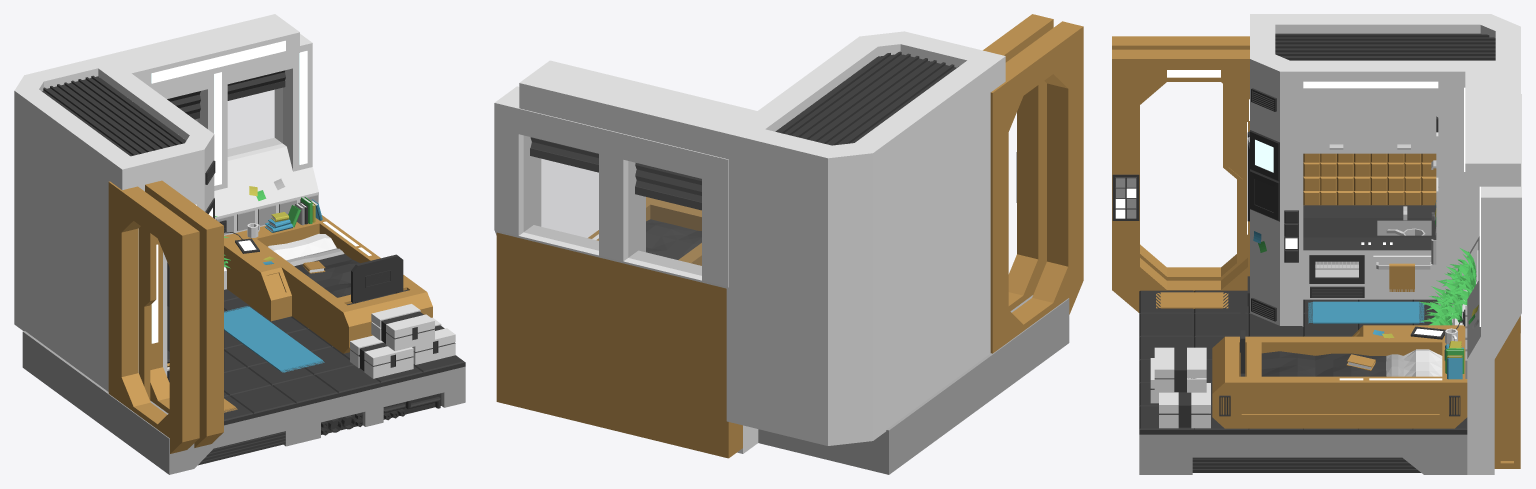
3 renders of one model, left to right at view 1: azimuth 30°, elevation 25°; view 2: azimuth 150°, elevation 25°; view 3: azimuth 270°, elevation 25°, orthographic. The views are drawn at different scales.
Visible parts, largest first — view 1: Mur_BLANC, Porte_ORANGE, Socle_GRIS_GRIS_0, Fenetres_BLANC, Lit_ORANGE, Damier_NOIR_NOIR_0, Toit_NOIR, Tapis_01_BLEU_BLEU_0, Fenetres_VITRE, Sous_socle_NOIR_NOIR_0, Battant_Porte_ORANGE_ORANGE_0, Caisse_03_BLANC_BLANC_0 (+11 smaller); view 2: Mur_BLANC, Sous_mur_ORANGE, Porte_ORANGE, Fenetres_BLANC, Fenetres_VITRE, Socle_GRIS_GRIS_0, Toit_NOIR, Stores_NOIR, Lit_NOIR_NOIR_0, Lit_ORANGE; view 3: Mur_BLANC, Lit_ORANGE, Porte_ORANGE, Facade_BLANC, Damier_NOIR_NOIR_0, Fenetres_BLANC, Socle_GRIS_GRIS_0, Credance_ORANGE, Toit_NOIR, Plan_travail_NOIR, Sous_mur_ORANGE, Sous_socle_NOIR_NOIR_0 (+22 smaller).
Part boxes in pixels (x1,y1,x2,y2): Mur_BLANC: [14, 14, 299, 391]; Porte_ORANGE: [108, 180, 223, 453]; Socle_GRIS_GRIS_0: [22, 331, 465, 474]; Fenetres_BLANC: [153, 34, 318, 235]; Lit_ORANGE: [224, 215, 432, 353]; Damier_NOIR_NOIR_0: [224, 289, 465, 425]; Toit_NOIR: [42, 75, 185, 156]; Tapis_01_BLEU_BLEU_0: [224, 306, 324, 372]; Fenetres_VITRE: [195, 88, 282, 156]; Sous_socle_NOIR_NOIR_0: [198, 393, 441, 465]; Battant_Porte_ORANGE_ORANGE_0: [139, 226, 156, 400]; Caisse_03_BLANC_BLANC_0: [371, 304, 434, 350]; Mur_BLANC: [519, 31, 1005, 445]; Sous_mur_ORANGE: [496, 232, 742, 458]; Porte_ORANGE: [983, 14, 1083, 353]; Fenetres_BLANC: [494, 86, 758, 453]; Fenetres_VITRE: [524, 136, 701, 275]; Socle_GRIS_GRIS_0: [758, 295, 1069, 474]; Toit_NOIR: [775, 51, 959, 145]; Stores_NOIR: [530, 137, 701, 210]; Lit_NOIR_NOIR_0: [646, 219, 701, 259]; Lit_ORANGE: [588, 197, 701, 265]; Mur_BLANC: [1250, 14, 1520, 332]; Lit_ORANGE: [1212, 325, 1467, 428]; Porte_ORANGE: [1112, 36, 1249, 312]; Facade_BLANC: [1303, 94, 1436, 299]; Damier_NOIR_NOIR_0: [1139, 290, 1467, 434]; Fenetres_BLANC: [1467, 94, 1521, 474]; Socle_GRIS_GRIS_0: [1139, 434, 1467, 474]; Credance_ORANGE: [1303, 153, 1436, 205]; Toit_NOIR: [1275, 33, 1495, 60]; Plan_travail_NOIR: [1303, 205, 1436, 250]; Sous_mur_ORANGE: [1494, 316, 1520, 468]; Sous_socle_NOIR_NOIR_0: [1192, 457, 1420, 472].
Size of the model in its own units: 302 by 260 by 321.
